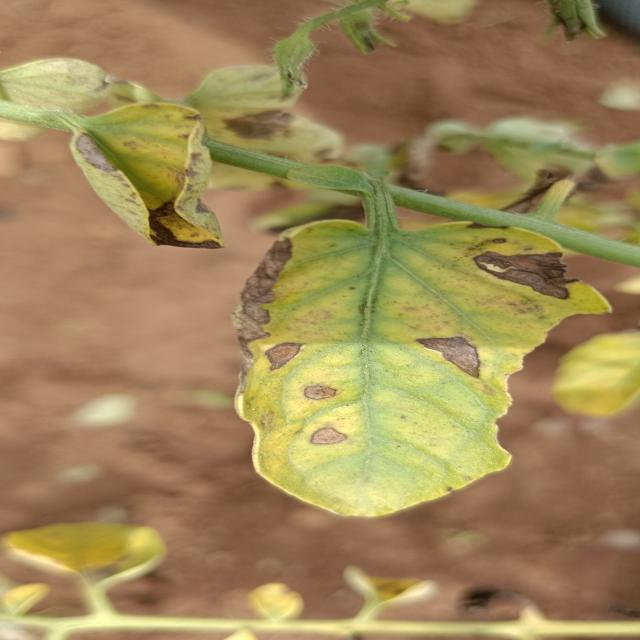tomato_early blight: (227, 211, 610, 518), (66, 96, 252, 251), (0, 513, 175, 590), (565, 320, 640, 420)
